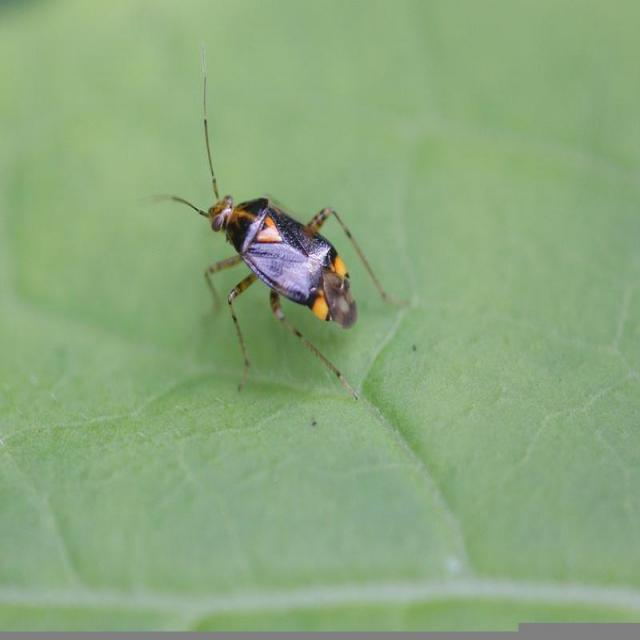Miridae-Adult-: (134, 39, 414, 404)
